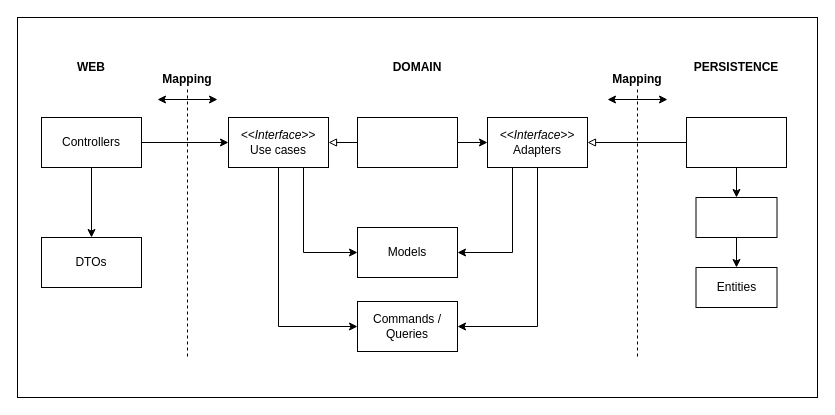
Image size: 835x415. Some labels were removed from this diagram. The centre of each missing label's shape, as x and y in pixels:
"Adapters implementations" goes at [736,142].
"Repositories" goes at [736,217].
"Use cases implementations (Services)" goes at [407,142].
